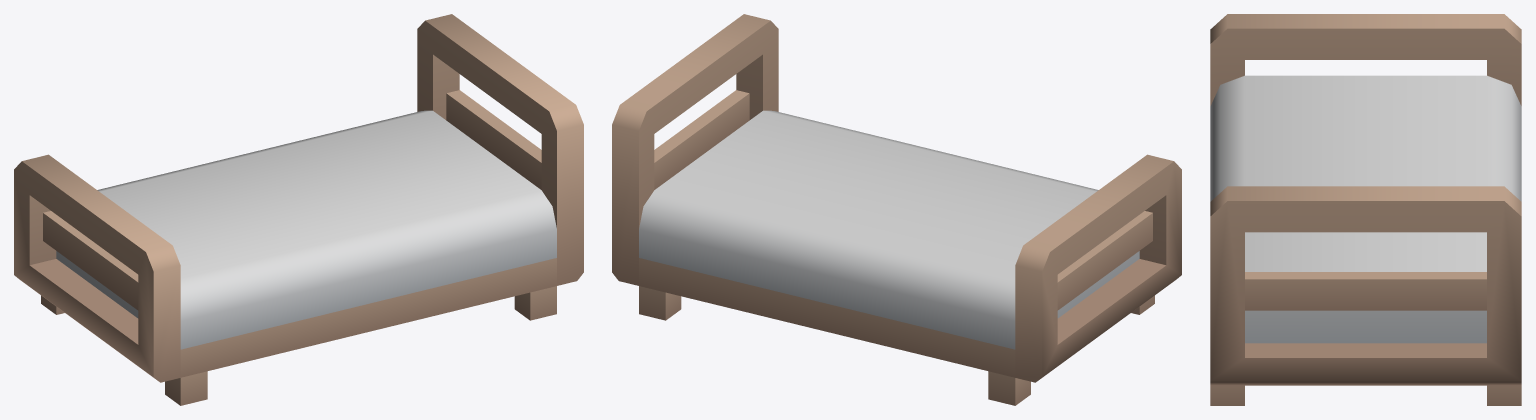
Rendered from bed-frame-single.glb.
3 views of the same model, side by side, from view 1: azimuth 30°, elevation 25°; view 2: azimuth 150°, elevation 25°; view 3: azimuth 270°, elevation 25° (orthographic). The views are drawn at different scales.
Visible parts, largest first — view 1: bed-frame-single; view 2: bed-frame-single; view 3: bed-frame-single.
Part boxes in pixels (bbox=[...]): bed-frame-single: bbox=[14, 14, 583, 405]; bed-frame-single: bbox=[612, 14, 1181, 405]; bed-frame-single: bbox=[1210, 14, 1521, 405].
Bounding box in the file's own units: 1.6 × 0.7 × 0.9.
